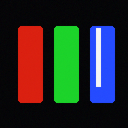4 line_v: (96, 28, 100, 86)
